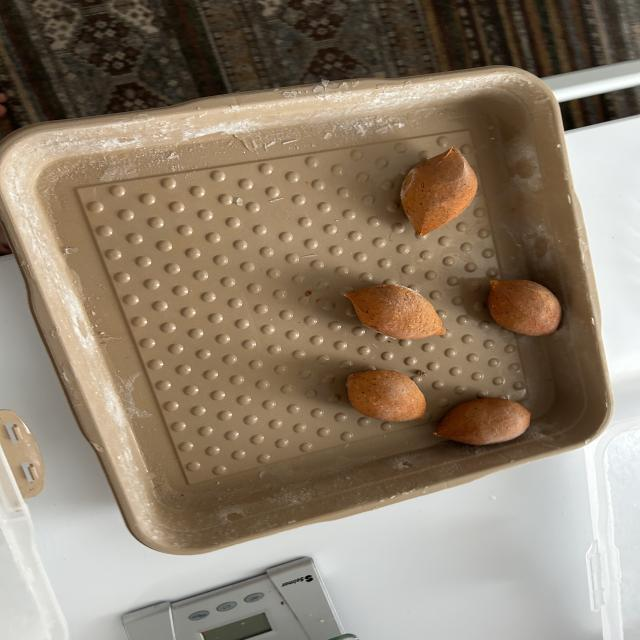kobi: (400, 144, 483, 240), (339, 283, 457, 338), (431, 401, 536, 445), (343, 371, 427, 424), (486, 279, 562, 336)
